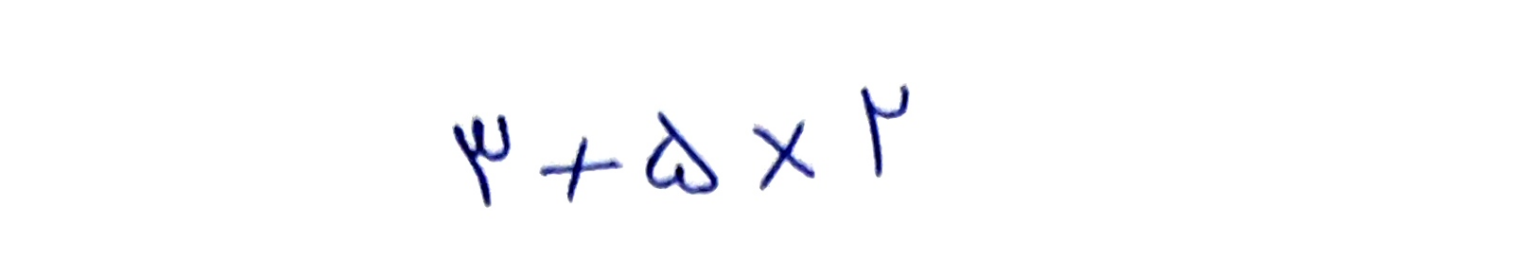character: (646, 110, 720, 194), (538, 133, 622, 201), (452, 112, 510, 207), (860, 82, 909, 179), (753, 120, 816, 189)
